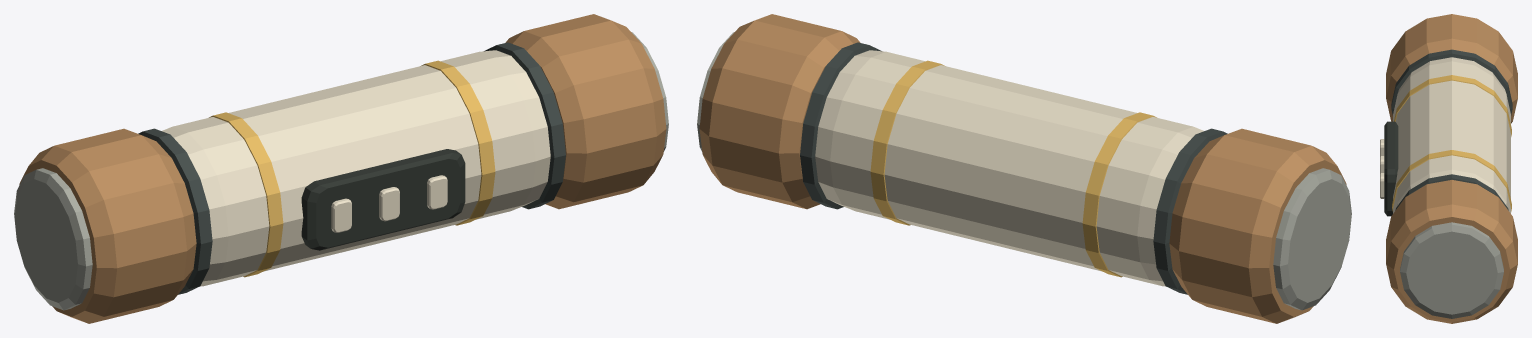
File: fusible.glb
3 renders of one model, left to right at view 1: azimuth 30°, elevation 25°; view 2: azimuth 150°, elevation 25°; view 3: azimuth 270°, elevation 25°, orthographic. The views are drawn at different scales.
Visible parts, largest first — view 1: Fusible cerámico; view 2: Fusible cerámico; view 3: Fusible cerámico.
Part boxes in pixels (<box>): Fusible cerámico: <box>14,14,668,323</box>; Fusible cerámico: <box>697,14,1351,323</box>; Fusible cerámico: <box>1380,14,1517,323</box>.
Bounding box in the file's own units: 0.284 × 0.076 × 0.0795.
